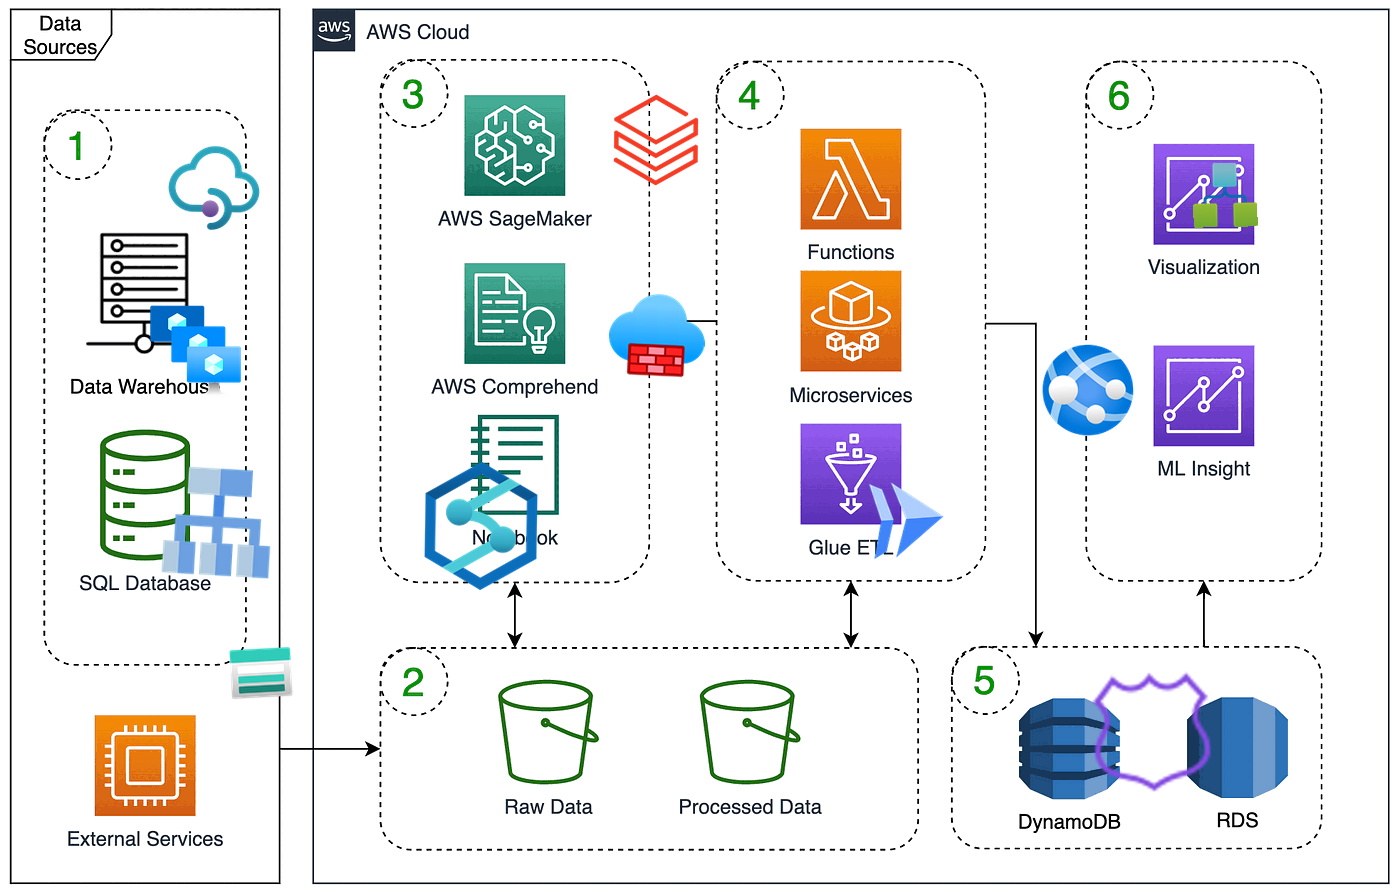aws_route_53_hosted_zone: (1085, 664, 1221, 800)
azure_api_management_services: (165, 139, 263, 237)
azure_app_services: (1036, 338, 1140, 442)
azure_databricks: (607, 91, 705, 189)
azure_firewalls: (606, 284, 708, 386)
azure_logic_apps: (1192, 162, 1258, 228)
azure_storage_accounts: (227, 639, 295, 707)
azure_synapse_analytics: (416, 461, 546, 591)
azure_vm_scale_sets: (145, 300, 243, 398)
gcp_cloud_load_balancing: (150, 454, 286, 590)
gcp_cloud_run: (854, 467, 958, 572)
